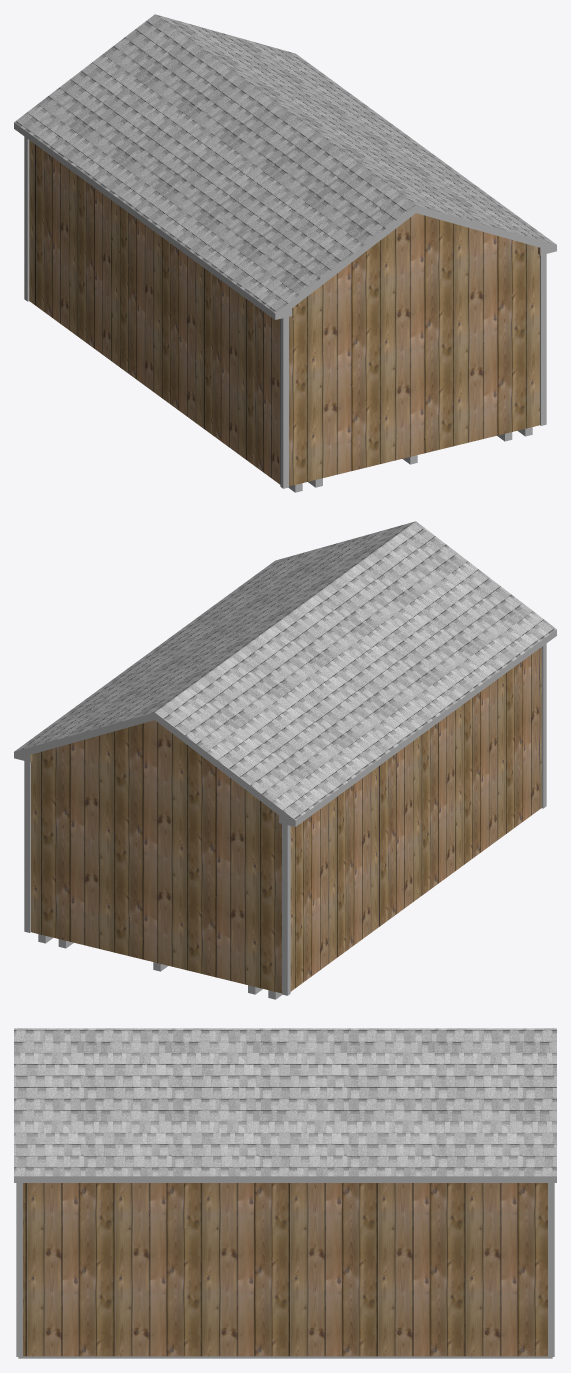
File: Single Garage A-frame_12x20.obj
The picture shows the model from 3 angles, top to bottom: view 1: azimuth 30°, elevation 25°; view 2: azimuth 150°, elevation 25°; view 3: azimuth 270°, elevation 25°; orthographic projection. The views are drawn at different scales.
Parts seen in each view (by area): view 1: Shed, Roof, Sides, Trim; view 2: Shed, Roof, Sides, Trim; view 3: Shed, Roof, Sides, Trim, Floor.
Part boxes in pixels (x1,y1,x2,y2): Shed: (29, 140, 540, 486); Roof: (14, 14, 556, 313); Sides: (14, 122, 556, 319); Trim: (24, 136, 546, 488); Shed: (30, 647, 541, 993); Roof: (14, 521, 556, 820); Sides: (14, 629, 556, 826); Trim: (24, 643, 546, 995); Shed: (23, 1183, 547, 1356); Roof: (14, 1028, 556, 1176); Sides: (14, 1176, 556, 1182); Trim: (16, 1183, 554, 1356); Floor: (18, 1356, 552, 1358).
Bounding box in the file's own units: 3.86 × 3.4 × 6.2.
